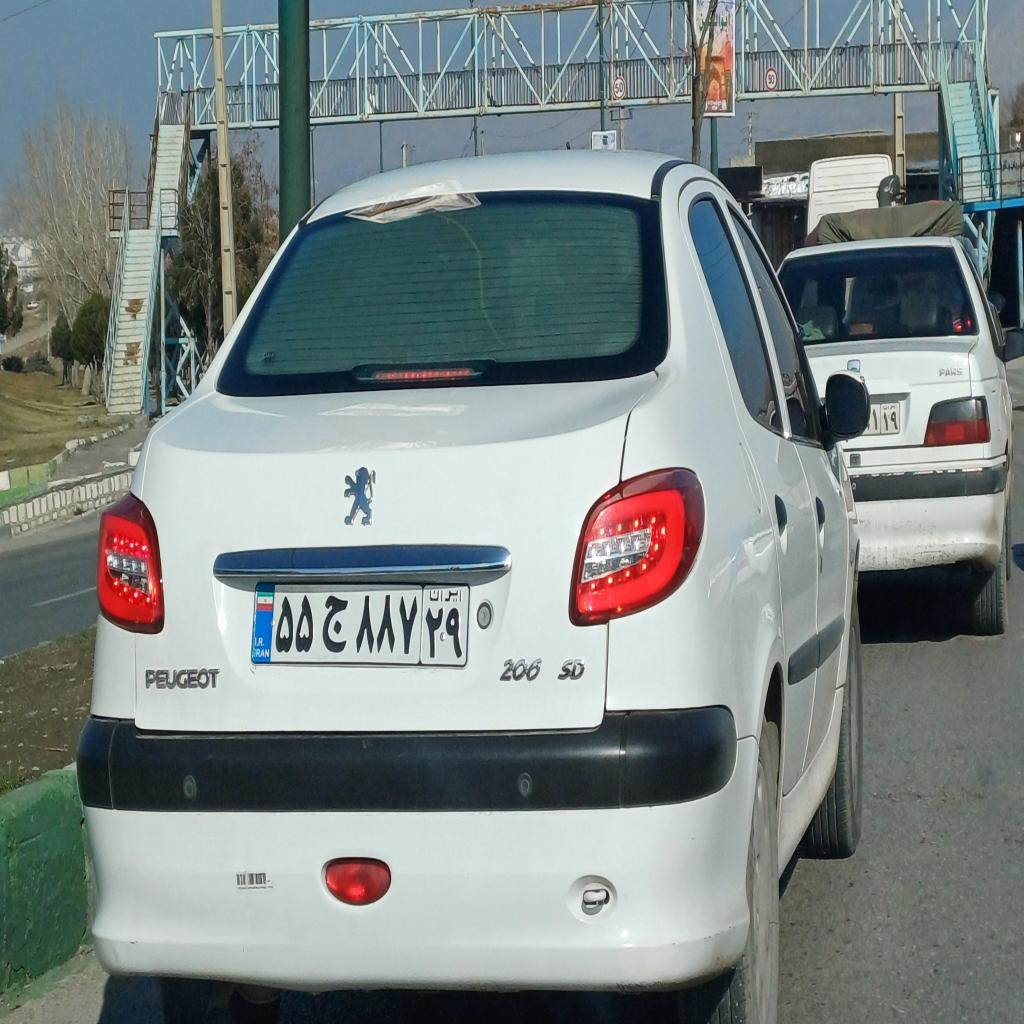Plates: (250, 580, 470, 669)
